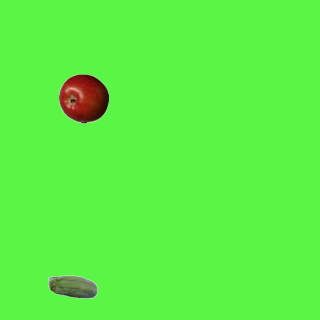Apple Braeburn: (58, 73, 108, 123)
Corn Husk: (47, 263, 97, 313)
